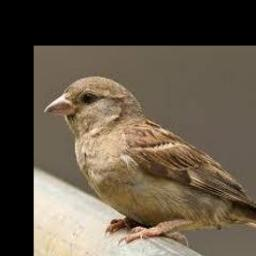Sparrow: (44, 75, 256, 244)
